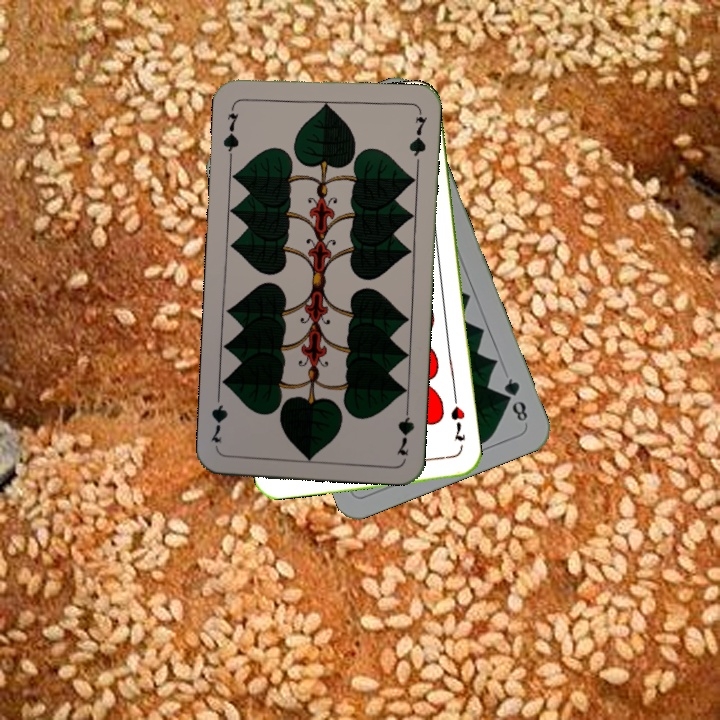G7: (392, 399, 417, 459), (219, 101, 242, 160)
G8: (500, 374, 531, 424)
H7: (446, 402, 468, 444)
